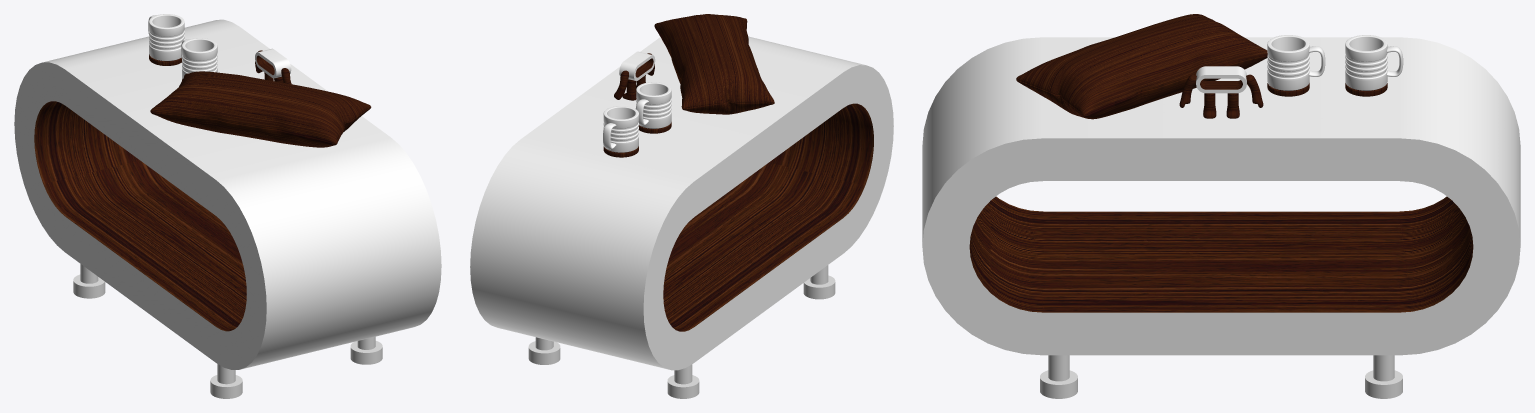
Rendered from little_table_5.glb.
3 views of the same model, side by side, from view 1: azimuth 30°, elevation 25°; view 2: azimuth 150°, elevation 25°; view 3: azimuth 270°, elevation 25° (orthographic). The views are drawn at different scales.
Parts seen in each view (by area): view 1: Cube_0, Plane_3, BezierCircle.001_2, BezierCircle_1, Cube.002_4; view 2: Cube_0, Plane_3, BezierCircle.001_2, BezierCircle_1, Cube.002_4; view 3: Cube_0, Plane_3, BezierCircle_1, BezierCircle.001_2, Cube.002_4.
Boxes of the visible parts, x1=… form: Cube_0: x1=14, y1=19, x2=441, y2=398; Plane_3: x1=150, y1=71, x2=371, y2=147; BezierCircle.001_2: x1=148, y1=14, x2=184, y2=65; BezierCircle_1: x1=181, y1=38, x2=217, y2=80; Cube.002_4: x1=255, y1=48, x2=291, y2=84; Cube_0: x1=470, y1=36, x2=893, y2=398; Plane_3: x1=654, y1=14, x2=774, y2=114; BezierCircle.001_2: x1=603, y1=106, x2=638, y2=157; BezierCircle_1: x1=635, y1=82, x2=671, y2=133; Cube.002_4: x1=614, y1=51, x2=655, y2=100; Cube_0: x1=922, y1=37, x2=1520, y2=398; Plane_3: x1=1016, y1=14, x2=1267, y2=119; BezierCircle_1: x1=1267, y1=35, x2=1325, y2=96; BezierCircle.001_2: x1=1345, y1=35, x2=1403, y2=96; Cube.002_4: x1=1179, y1=66, x2=1263, y2=118.
Size of the model in its own units: 0.2 by 0.2883 by 0.5.
Materials: 32 (14 with a texture image).
